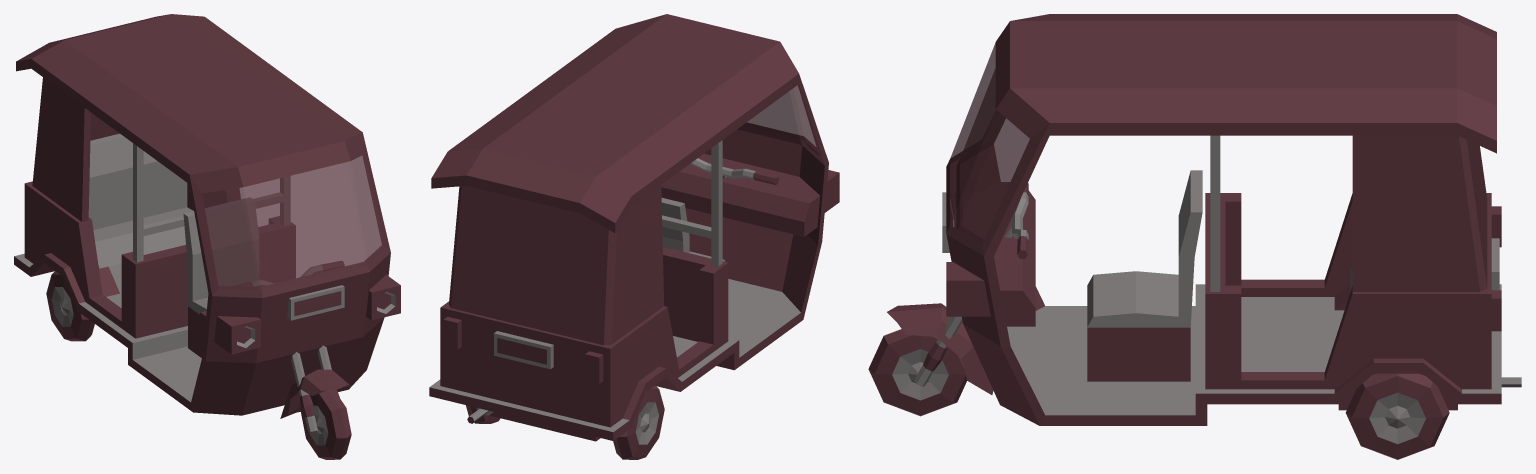
The model's file is rickshaw.fbx.
3 views of the same model, side by side, from view 1: azimuth 30°, elevation 25°; view 2: azimuth 150°, elevation 25°; view 3: azimuth 270°, elevation 25° (orthographic). The views are drawn at different scales.
Parts seen in each view (by area): view 1: rickshaw-base, rickshaw-wheel_F, rickshaw-wheel_B; view 2: rickshaw-base, rickshaw-wheel_B; view 3: rickshaw-base, rickshaw-wheel_B, rickshaw-wheel_F.
Boxes of the visible parts, bbox=[...] form: rickshaw-base: bbox=[14, 14, 400, 432]; rickshaw-wheel_F: bbox=[301, 389, 351, 459]; rickshaw-wheel_B: bbox=[46, 271, 94, 341]; rickshaw-base: bbox=[429, 14, 839, 441]; rickshaw-wheel_B: bbox=[466, 385, 664, 459]; rickshaw-base: bbox=[887, 14, 1521, 425]; rickshaw-wheel_B: bbox=[1345, 373, 1449, 459]; rickshaw-wheel_F: bbox=[868, 329, 967, 416].
Size of the model in its own units: 1.34 by 2.01 by 3.28.
